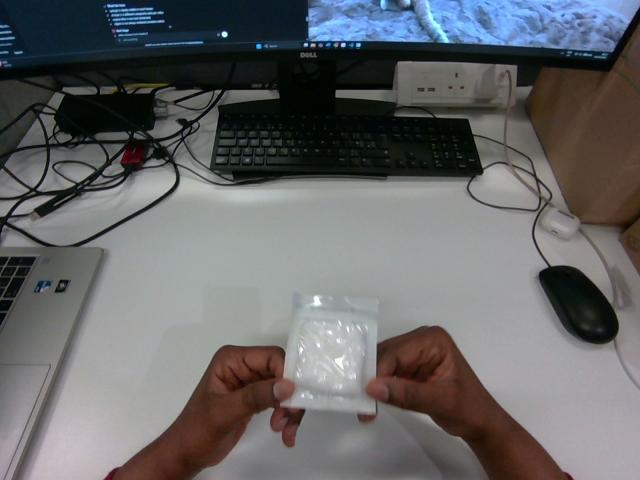gauze: (281, 294, 377, 413)
